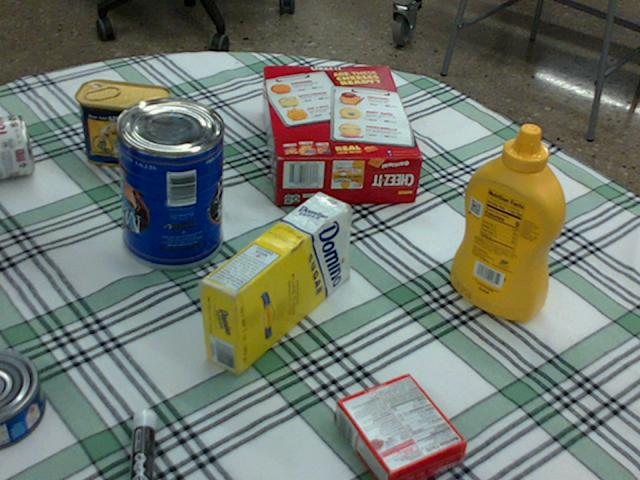cracker_box: (261, 66, 422, 202)
gelatin_box: (334, 374, 464, 479)
large_marker: (127, 409, 154, 479)
master_chef_can: (113, 97, 222, 269)
mustard_bottle: (450, 124, 565, 320)
potted_meat_can: (76, 80, 170, 169)
sugar_box: (198, 192, 349, 374)
tomato_soup_can: (0, 114, 32, 177)
tuna_fish_can: (0, 348, 41, 446)
